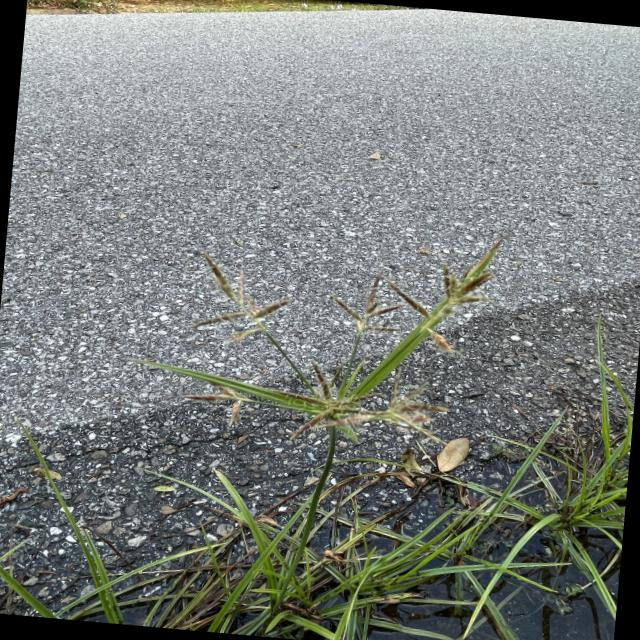cyperus: (158, 197, 510, 473)
